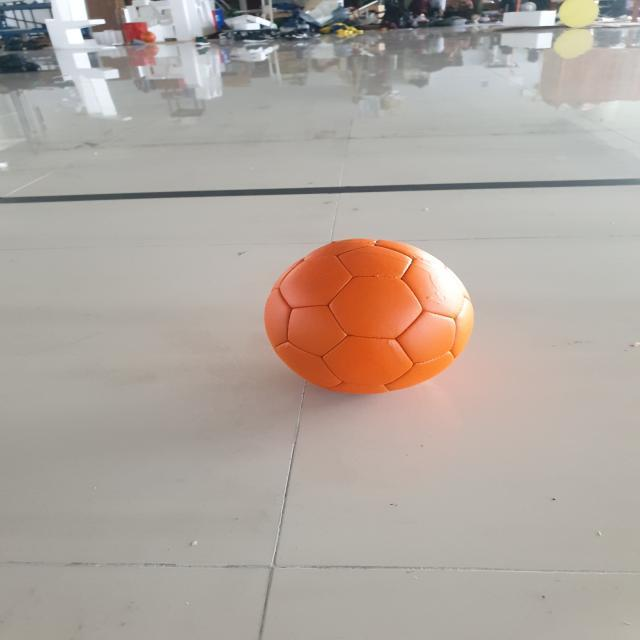bola: (257, 230, 477, 402)
